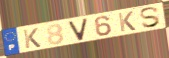6: (93, 14, 113, 37)
8: (47, 22, 66, 46)
K: (117, 10, 137, 33), (22, 27, 42, 50)
S: (138, 6, 162, 29)
V: (67, 17, 89, 42)
